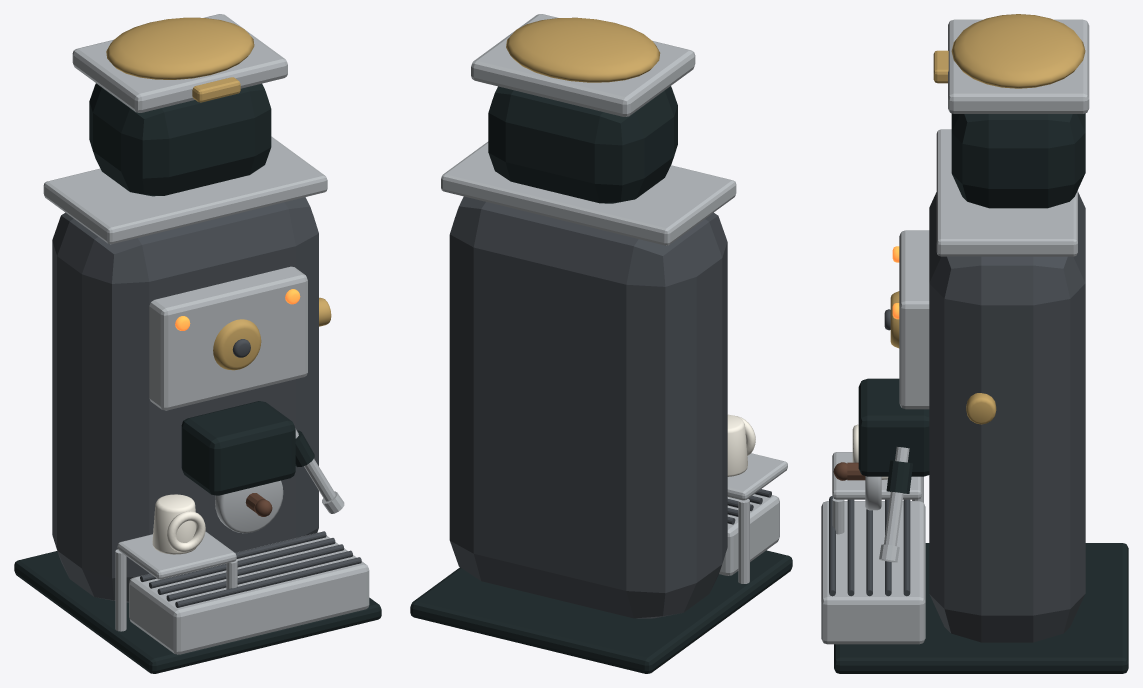
Rendered from coffee_machine.glb.
3 views of the same model, side by side, from view 1: azimuth 30°, elevation 25°; view 2: azimuth 150°, elevation 25°; view 3: azimuth 270°, elevation 25° (orthographic). The views are drawn at different scales.
Visible parts, largest first — view 1: Machine body, Front panel, Bean hopper, Drip tray, Machine top plate, Group head, Machine plinth, Hopper lid dome, Hopper lid, Cup shelf, Portafilter, Espresso cup (+10 smaller); view 2: Machine body, Machine plinth, Bean hopper, Machine top plate, Hopper lid dome, Hopper lid, Drip tray, Cup shelf, Espresso cup, Cup shelf post; view 3: Machine body, Machine plinth, Bean hopper, Drip tray, Machine top plate, Hopper lid dome, Hopper lid, Group head, Front panel, Cup shelf, Steam wand, Steam knob (+7 smaller).
Part boxes in pixels (bbox=[...]): Machine body: bbox=[52, 197, 318, 602]; Front panel: bbox=[149, 266, 307, 410]; Bean hopper: bbox=[89, 83, 271, 196]; Drip tray: bbox=[129, 532, 369, 654]; Machine top plate: bbox=[43, 136, 327, 244]; Group head: bbox=[181, 401, 295, 495]; Machine plinth: bbox=[14, 551, 381, 673]; Hopper lid dome: bbox=[106, 17, 254, 79]; Hopper lid: bbox=[72, 14, 287, 112]; Cup shelf: bbox=[117, 531, 236, 579]; Portafilter: bbox=[215, 480, 283, 533]; Espresso cup: bbox=[152, 494, 196, 554]; Machine body: bbox=[449, 196, 727, 618]; Machine plinth: bbox=[410, 550, 792, 673]; Bean hopper: bbox=[488, 86, 677, 203]; Machine top plate: bbox=[441, 141, 736, 245]; Hopper lid dome: bbox=[506, 17, 660, 82]; Hopper lid: bbox=[471, 14, 695, 116]; Drip tray: bbox=[719, 494, 779, 575]; Cup shelf: bbox=[727, 453, 787, 500]; Espresso cup: bbox=[727, 414, 747, 476]; Cup shelf post: bbox=[738, 499, 749, 583]; Machine body: bbox=[929, 192, 1085, 642]; Machine plinth: bbox=[834, 543, 1128, 673]; Bean hopper: bbox=[951, 113, 1085, 208]; Drip tray: bbox=[821, 501, 925, 644]; Machine top plate: bbox=[936, 129, 1077, 256]; Hopper lid dome: bbox=[951, 14, 1085, 88]; Hopper lid: bbox=[948, 19, 1089, 113]; Group head: bbox=[858, 378, 929, 476]; Front panel: bbox=[899, 230, 929, 409]; Cup shelf: bbox=[832, 452, 921, 499]; Steam wand: bbox=[882, 447, 909, 561]; Steam knob: bbox=[966, 393, 996, 424].
Size of the model in its own units: 0.399 by 0.8595 by 0.413.
